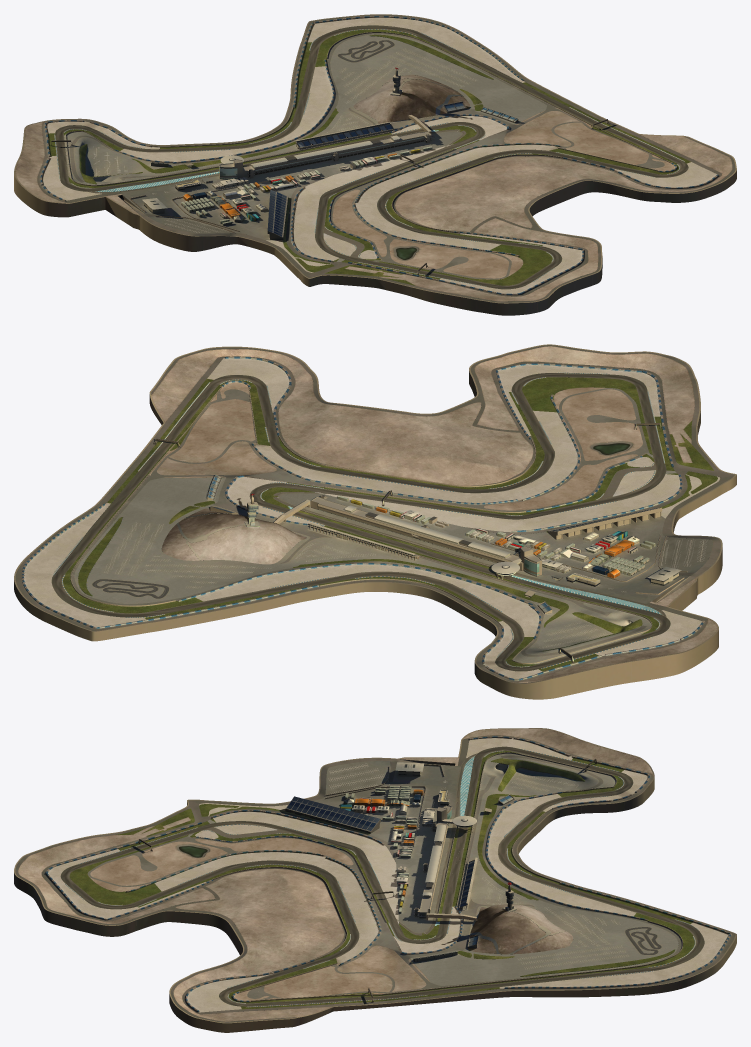
The model's file is motogp jerez track.glb.
3 views of the same model, one above another, from view 1: azimuth 30°, elevation 25°; view 2: azimuth 150°, elevation 25°; view 3: azimuth 270°, elevation 25° (orthographic). The views are drawn at different scales.
Parts seen in each view (by area): view 1: mesh; view 2: mesh; view 3: mesh.
Boxes of the visible parts, x1,y1,x2,y2 form: mesh: [14, 14, 736, 315]; mesh: [14, 344, 736, 699]; mesh: [14, 728, 736, 1032].
Size of what is drawn, in the model's own units: 2582 by 202 by 2726.
Materials: 21 (21 with a texture image).
